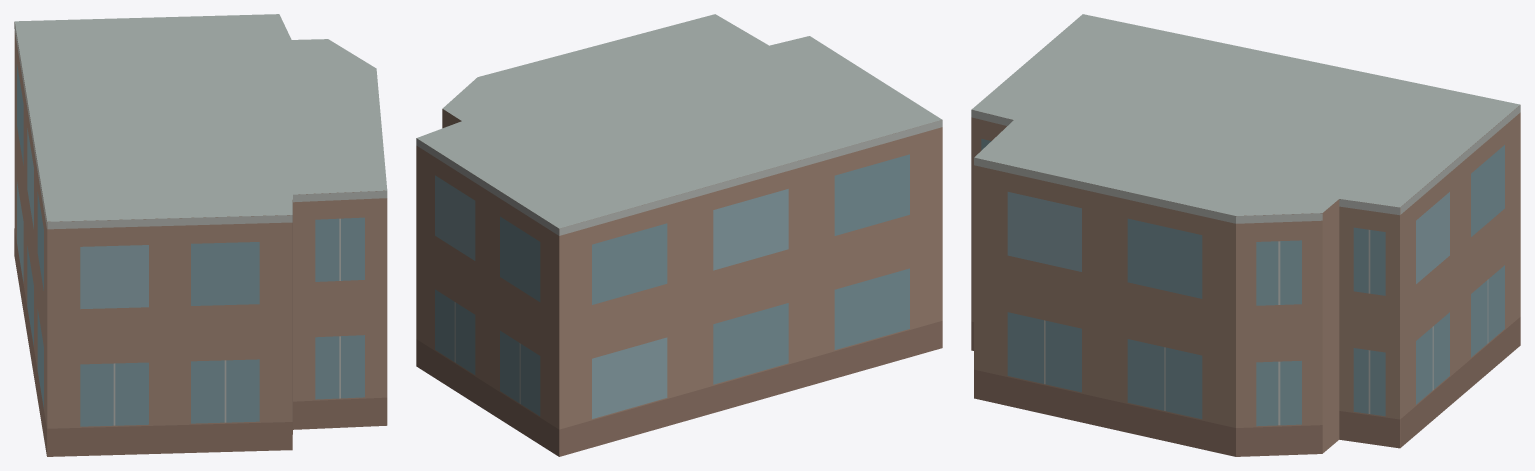
File: survey-upis-32744357.glb
3 views of the same model, side by side, from view 1: azimuth 30°, elevation 25°; view 2: azimuth 150°, elevation 25°; view 3: azimuth 270°, elevation 25° (orthographic). The views are drawn at different scales.
Parts seen in each view (by area): view 1: survey-upis-32744357.tmp; view 2: survey-upis-32744357.tmp; view 3: survey-upis-32744357.tmp.
Boxes of the visible parts, x1,y1,x2,y2 form: survey-upis-32744357.tmp: (14,14,387,456); survey-upis-32744357.tmp: (416,14,942,456); survey-upis-32744357.tmp: (971,14,1520,456).
Bounding box in the file's own units: 13.69 × 7.6 × 15.72.
